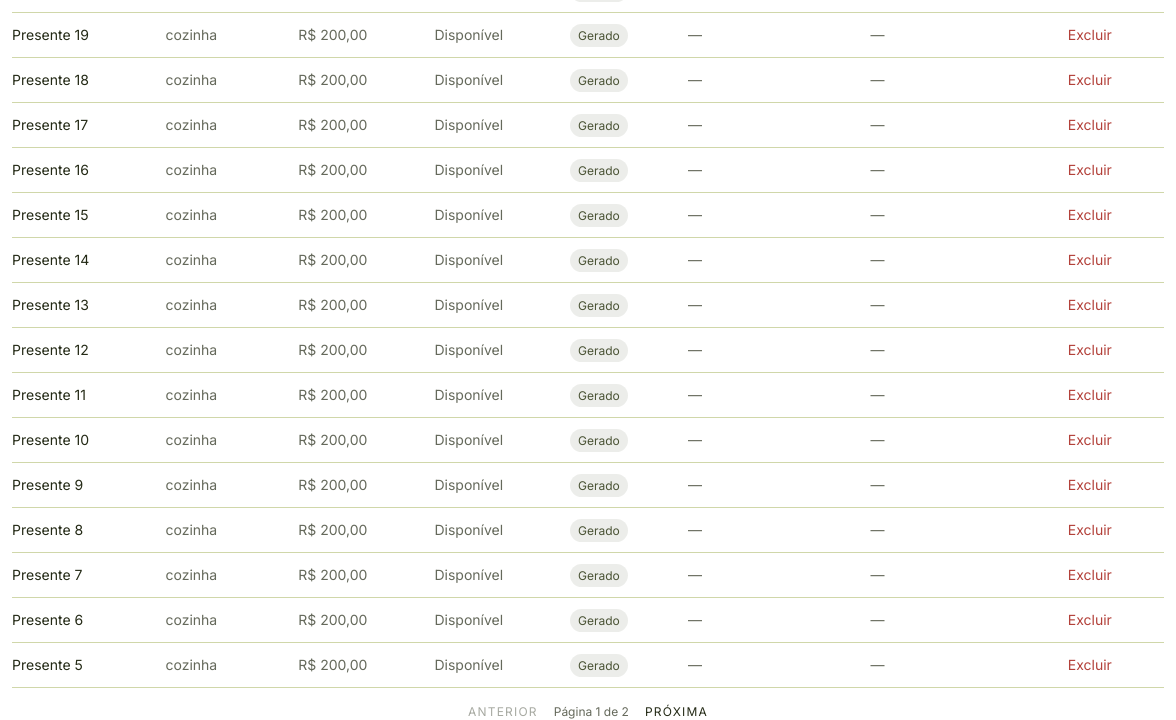
Test: GiftsTable › paginates 20 gifts per page
The image size is (1176, 720).
(page scrolled)
Expected: the text "Página 1 de 2" is shown, 554,704 -> 629,719
Expected: the text "Presente 0" is not shown
Click the button "Próxima".
click(676, 712)  # box 645,704 -> 708,719
(page scrolled)
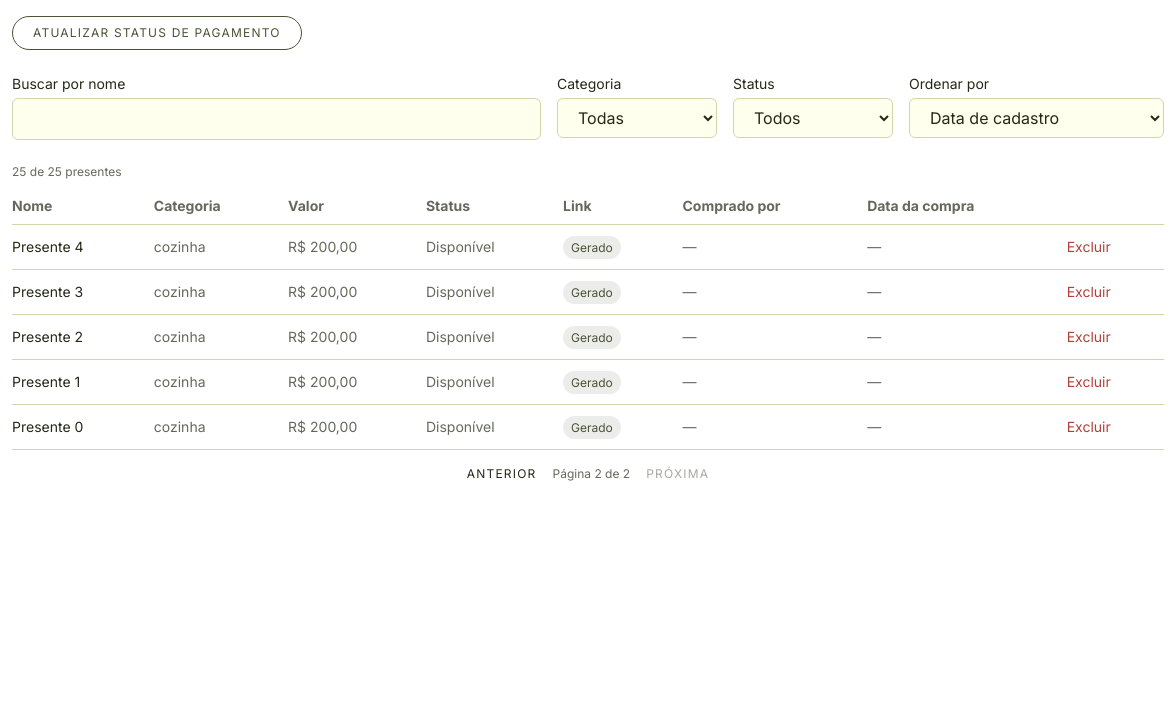
Now the link "Presente 0" is shown, box 12,418 -> 83,435
Now the button "Próxima" is disabled, box 646,466 -> 709,482
